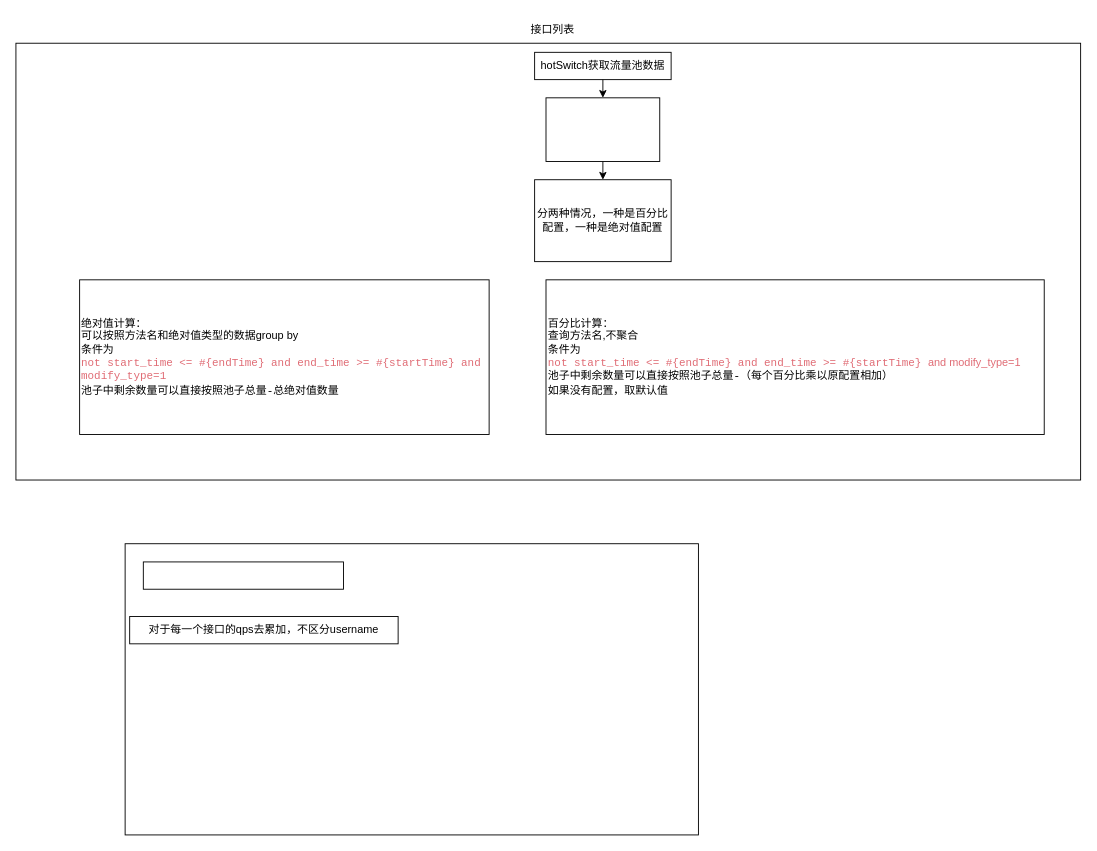
The diagram is 1097 pixels wide and 851 high, and some of its shapes have lost their labels. Here are the shapes that lost their labels. From the top down, the centre of each, then its label:
[602,129]: 获取到数据库中的对应时间段的方法和配置
[243,575]: 某username的所有接口配置
